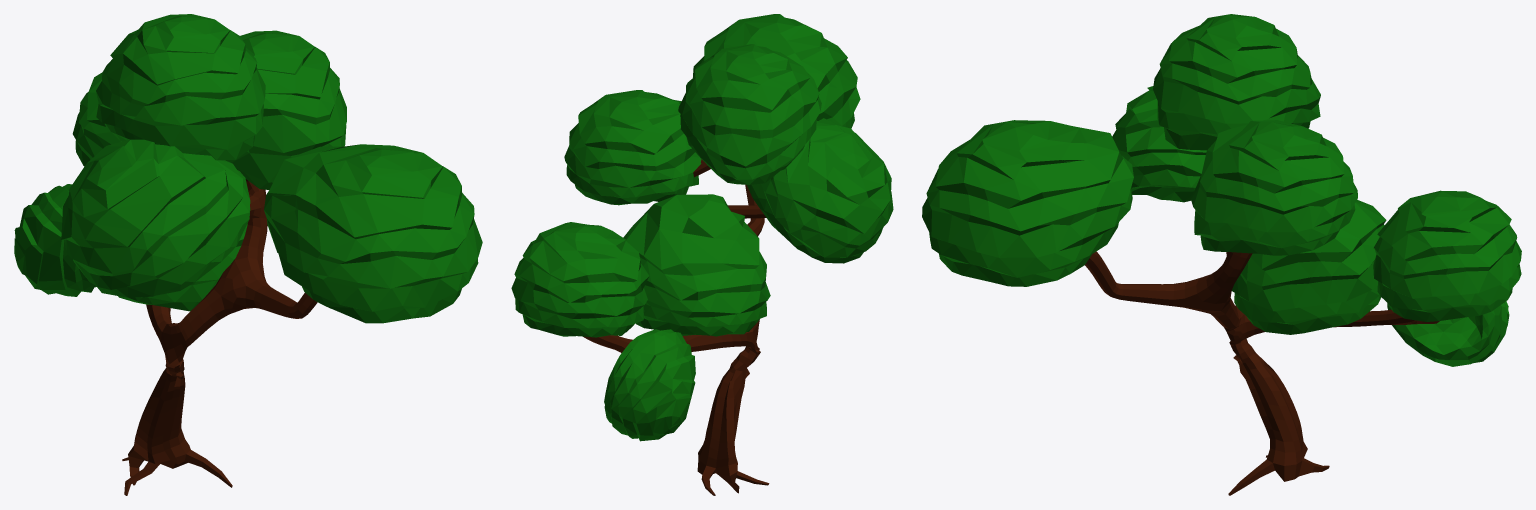
Rendered from tree1.fbx.
3 views of the same model, side by side, from view 1: azimuth 30°, elevation 25°; view 2: azimuth 150°, elevation 25°; view 3: azimuth 270°, elevation 25° (orthographic). The views are drawn at different scales.
Parts seen in each view (by area): view 1: Icosphere, Vert; view 2: Icosphere, Vert; view 3: Icosphere, Vert.
Boxes of the visible parts, x1,y1,x2,y2 form: Icosphere: (14,14,482,323); Vert: (122,179,317,495); Icosphere: (511,14,893,441); Vert: (583,159,769,495); Icosphere: (922,14,1521,366); Vert: (1085,251,1439,495).
Size of the model in its own units: 427 by 636 by 752.
